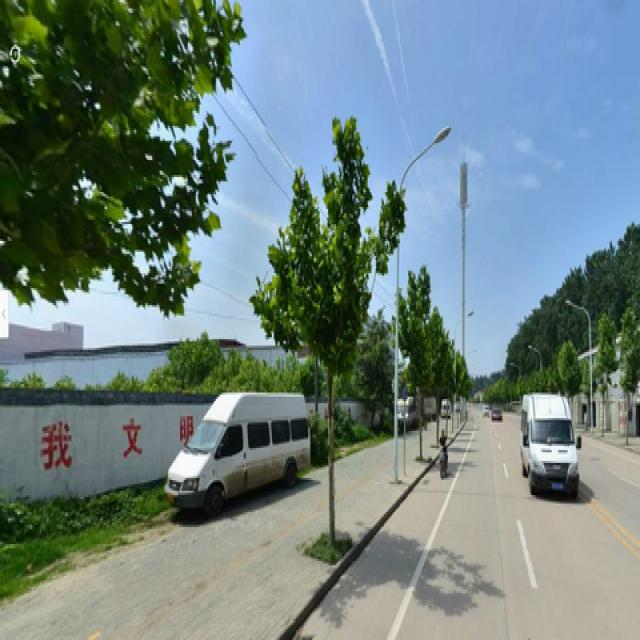meta: (271, 140, 398, 538)
